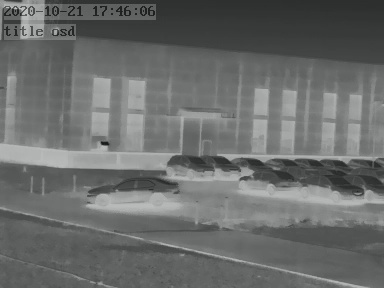vehicle: (88, 175, 182, 208), (303, 171, 363, 198), (239, 169, 303, 191), (165, 152, 213, 179), (203, 153, 242, 177), (350, 175, 384, 201), (232, 154, 270, 172), (262, 155, 296, 170), (347, 155, 380, 170), (317, 156, 347, 170), (295, 156, 325, 169)
